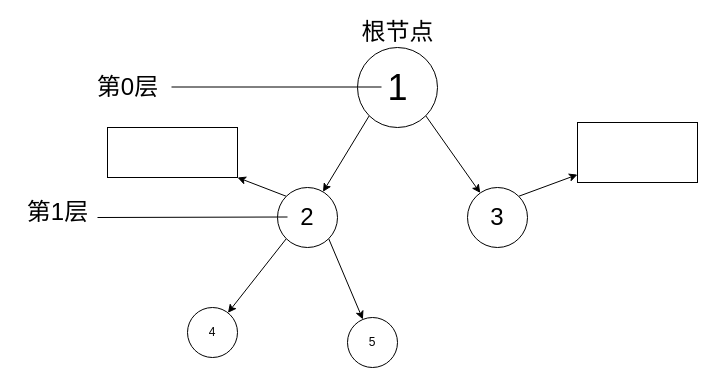
This 715x385 diagram has some shape labels left out. The centre of each missing label's shape, as x and y in pixels:
"节点1的右侧子节点" belongs at [637,152].
"节点1的左侧子节点" belongs at [172,152].
